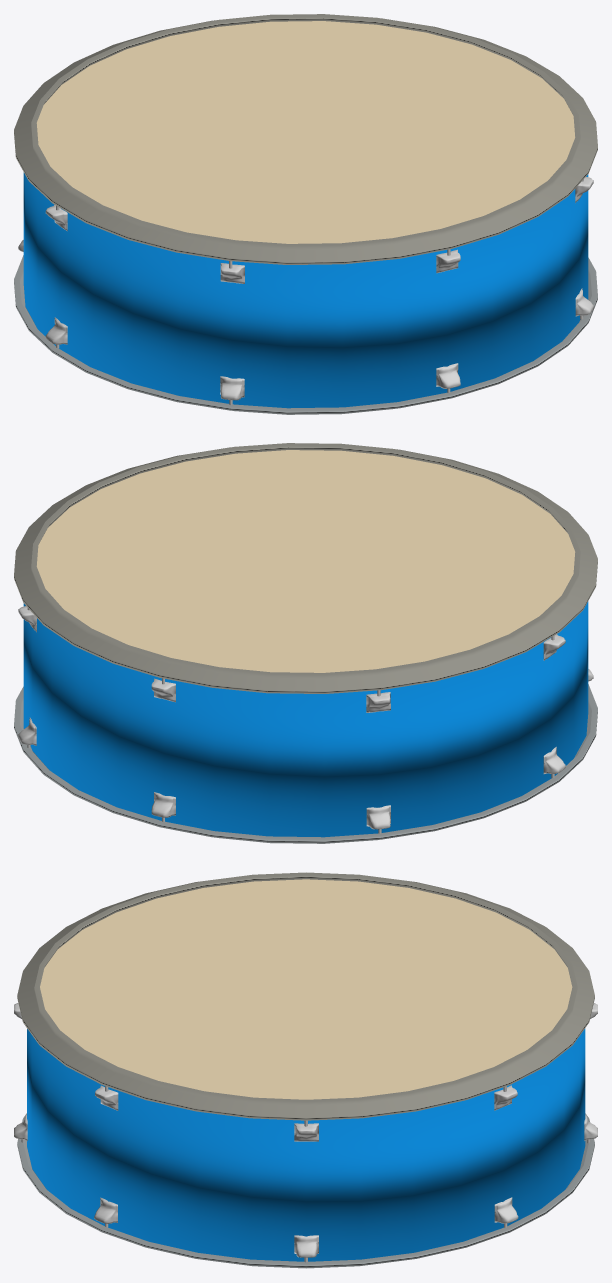
The model's file is snare.fbx.
3 views of the same model, one above another, from view 1: azimuth 30°, elevation 25°; view 2: azimuth 150°, elevation 25°; view 3: azimuth 270°, elevation 25° (orthographic).
Visible parts, largest first — view 1: Circle, WoodFrame, MetalFrameUp, MetalFrameDown, Bidule_012, Bidule_010; view 2: Circle, WoodFrame, MetalFrameUp, MetalFrameDown, Bidule_015; view 3: Circle, WoodFrame, MetalFrameUp, MetalFrameDown, Bidule_009.
Boxes of the visible parts, box(x1,y1,x2,y2) form: Circle: box(36, 21, 575, 243); WoodFrame: box(23, 172, 588, 408); MetalFrameUp: box(14, 14, 597, 264); MetalFrameDown: box(14, 255, 597, 414); Bidule_012: box(220, 376, 244, 400); Bidule_010: box(436, 363, 460, 388); Circle: box(36, 450, 575, 672); WoodFrame: box(23, 601, 588, 837); MetalFrameUp: box(14, 443, 597, 693); MetalFrameDown: box(14, 684, 597, 843); Bidule_015: box(366, 805, 390, 829); Circle: box(40, 879, 572, 1099); WoodFrame: box(27, 1028, 585, 1261); MetalFrameUp: box(17, 872, 594, 1120); MetalFrameDown: box(17, 1113, 594, 1268); Bidule_009: box(294, 1235, 318, 1257).
Size of the model in its own units: 8.39 by 2.64 by 8.39.
